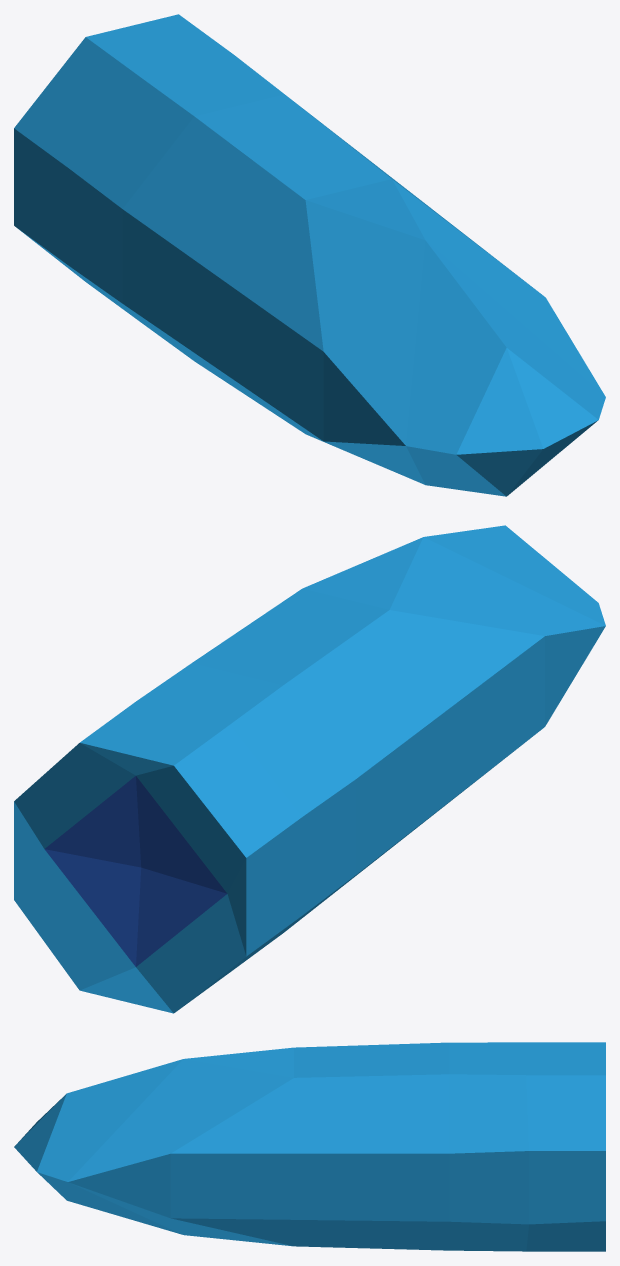
The model's file is TankBullet.fbx.
3 views of the same model, one above another, from view 1: azimuth 30°, elevation 25°; view 2: azimuth 150°, elevation 25°; view 3: azimuth 270°, elevation 25° (orthographic). The views are drawn at different scales.
Visible parts, largest first — view 1: Tank_MainGun_Projectile; view 2: Tank_MainGun_Projectile; view 3: Tank_MainGun_Projectile.
Boxes of the visible parts, x1,y1,x2,y2 form: Tank_MainGun_Projectile: (14,14,605,496); Tank_MainGun_Projectile: (14,525,605,1013); Tank_MainGun_Projectile: (14,1042,605,1251).
Bounding box in the file's own units: 34.41 × 34.41 × 105.
